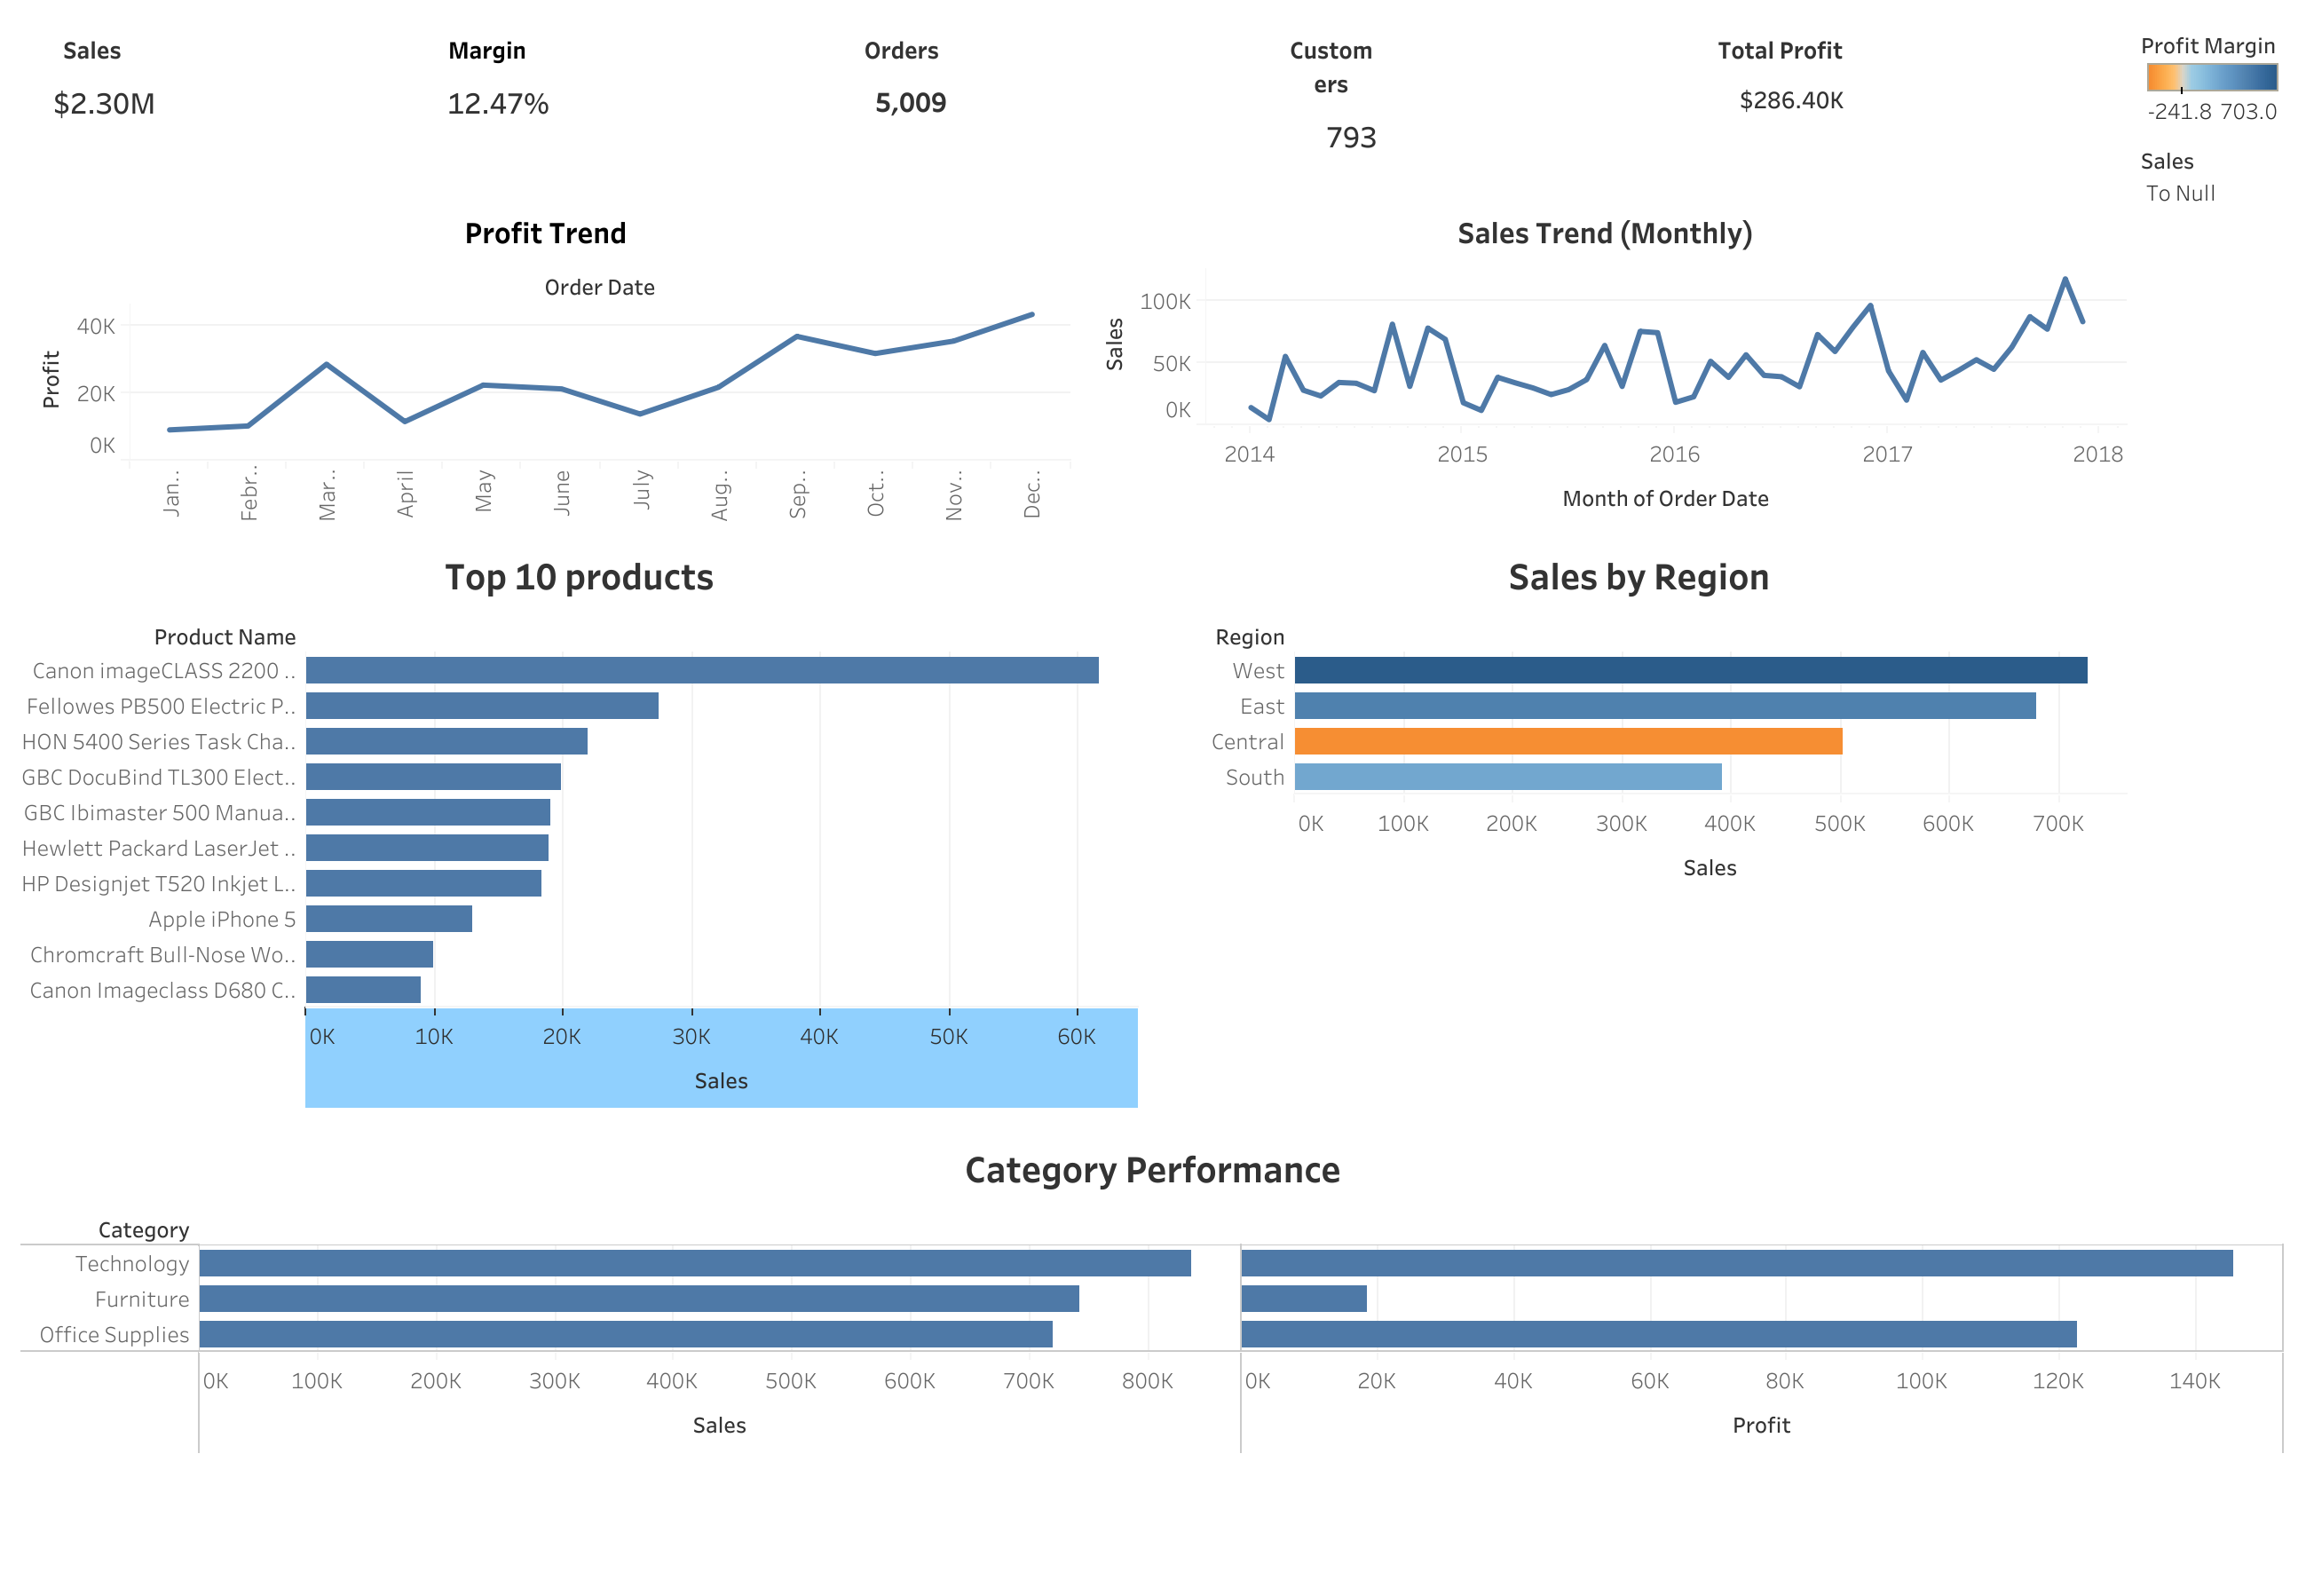

What the dashboard file says about the page in this screenshot:
{"tool":"tableau","page":{"name":"Dashboard 1","canvas":[1000,1000],"units":"permille","ordinal":0},"visuals":[{"type":"worksheet","title":"tot sales","mark":"Automatic","box":[6.2,8.9,171.5,90]},{"type":"worksheet","title":"margin","mark":"Automatic","box":[177.7,8.9,186.7,112.2]},{"type":"worksheet","title":"orders","mark":"Automatic","box":[364.4,8.9,186.7,112.2]},{"type":"worksheet","title":"cust","mark":"Automatic","box":[551.1,8.9,186.7,112.2]},{"type":"worksheet","title":"profit","mark":"Automatic","box":[737.9,8.9,186.7,112.2]},{"type":"legend","title":"sales by region","param":"[federated.1qwdxhe1hxrijw13obj7a1ladg6w].[sum:profit_margin:qk]","box":[924.6,8.9,69.2,72.2]},{"type":"filter","title":"top 10","param":"[federated.1qwdxhe1hxrijw13obj7a1ladg6w].[sum:sales:qk]","box":[924.6,81.1,69.2,76.7]},{"type":"worksheet","title":"profit trend","mark":"Automatic","rows":["profit"],"cols":["order_date"],"box":[6.2,121.1,460.8,212.2]},{"type":"worksheet","title":"sales trend","mark":"Line","rows":["sales"],"cols":["order_date"],"box":[466.9,121.1,457.7,212.2]},{"type":"worksheet","title":"top 10","mark":"Automatic","rows":["product_name"],"cols":["sales"],"box":[6.2,333.3,490,371.1]},{"type":"worksheet","title":"sales by region","mark":"Automatic","rows":["region"],"cols":["sales"],"box":[496.2,333.3,428.5,371.1]},{"type":"worksheet","title":"category by performance","mark":"Automatic","rows":["category"],"cols":["sales","profit"],"box":[6.2,704.4,987.7,286.7]}]}

Visuals, with their boxes on the dashboard's canvas, which has no fixed pixel size, in thousandths of its width and height (x1, y1, x2, y2). These are canvas units, not pixel positions in the 2306x1596 screenshot, which may show the page scaled, cropped or inside an application window:
"tot sales" worksheet: bbox=[6, 9, 178, 99]
"margin" worksheet: bbox=[178, 9, 364, 121]
"orders" worksheet: bbox=[364, 9, 551, 121]
"cust" worksheet: bbox=[551, 9, 738, 121]
"profit" worksheet: bbox=[738, 9, 925, 121]
"sales by region" legend: bbox=[925, 9, 994, 81]
"top 10" filter: bbox=[925, 81, 994, 158]
"profit trend" worksheet: bbox=[6, 121, 467, 333]
"sales trend" worksheet (Line marks): bbox=[467, 121, 925, 333]
"top 10" worksheet: bbox=[6, 333, 496, 704]
"sales by region" worksheet: bbox=[496, 333, 925, 704]
"category by performance" worksheet: bbox=[6, 704, 994, 991]
